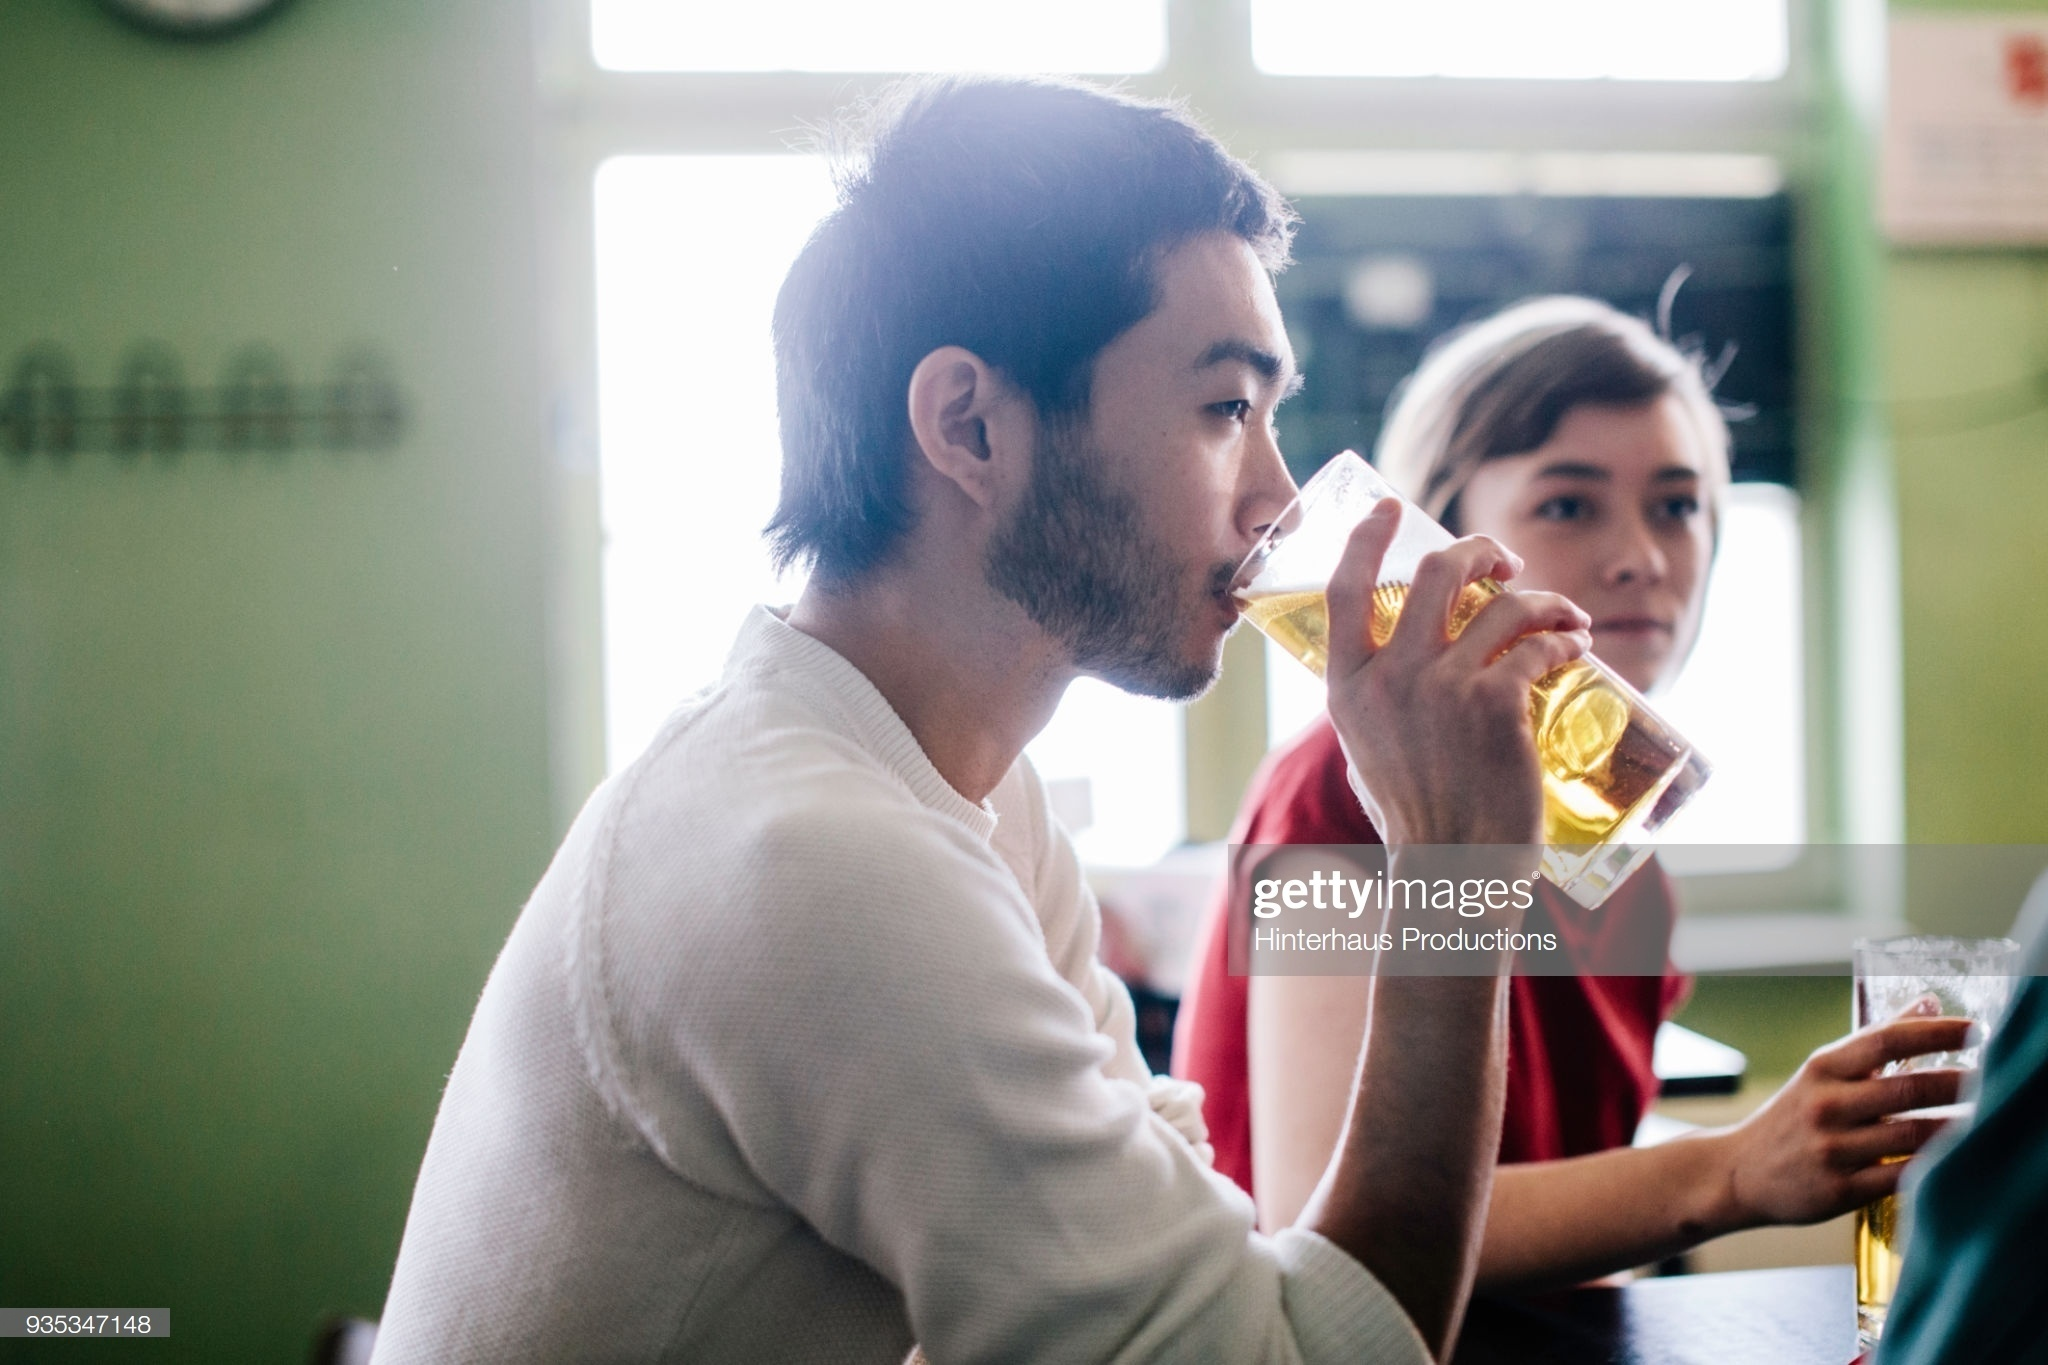whiskey: (1246, 456, 1702, 890)
